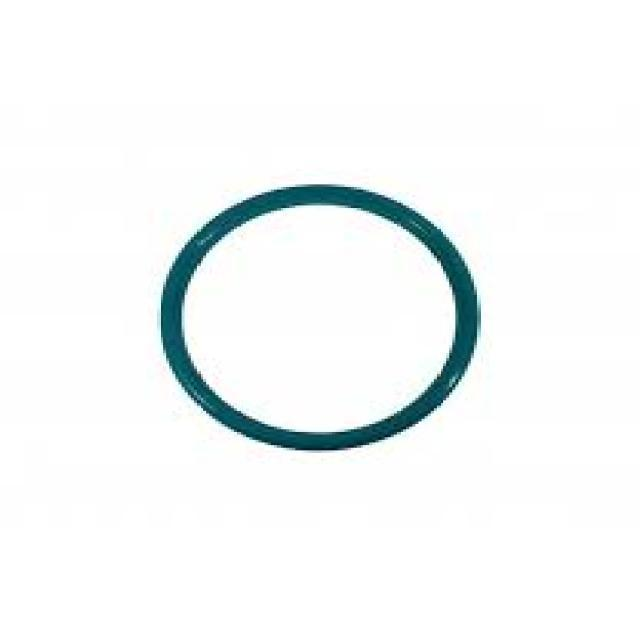Circle: (159, 185, 477, 449)
